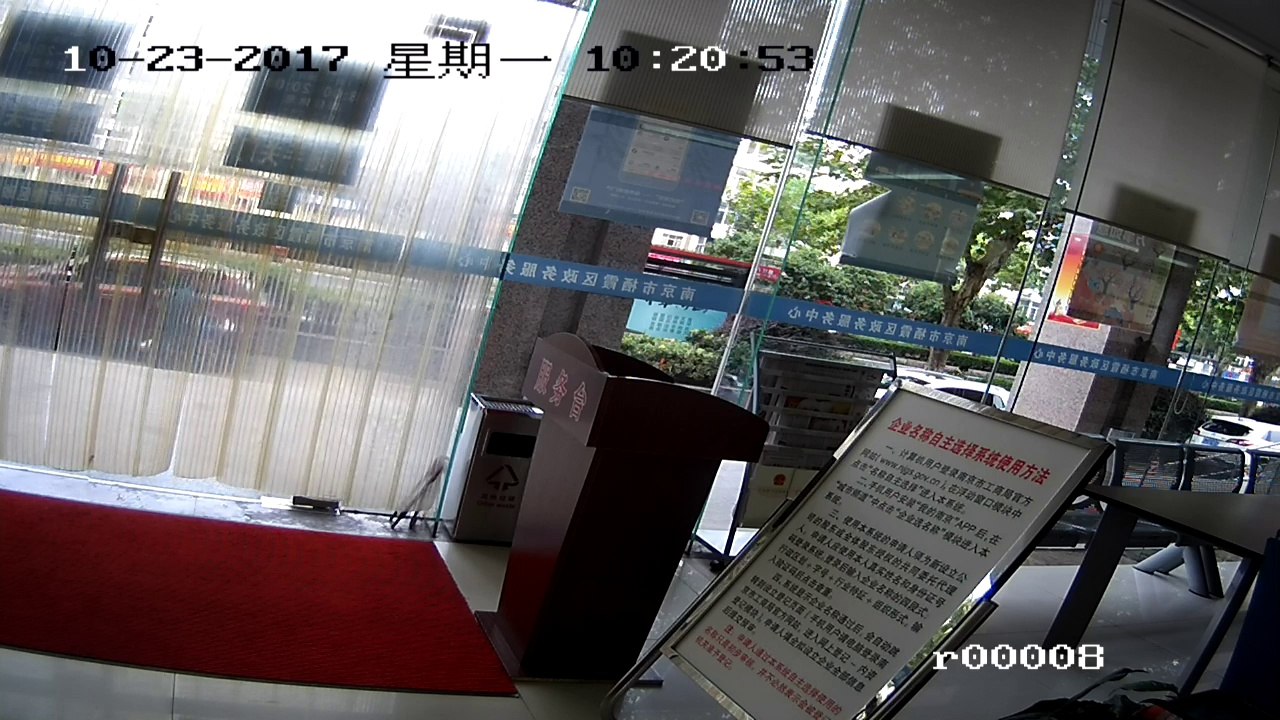billboard: (816, 401, 996, 709)
desk: (525, 344, 680, 641)
